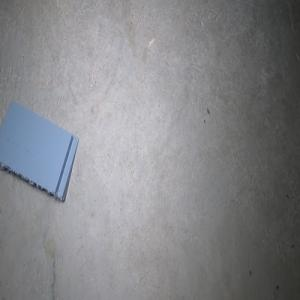PlasticPart: (0, 99, 79, 201)
